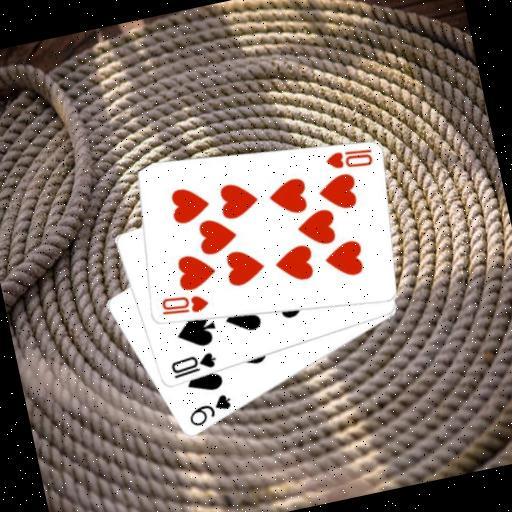10H: (320, 141, 376, 176), (156, 286, 211, 321)
10S: (165, 348, 219, 381)
9S: (182, 390, 236, 430)
